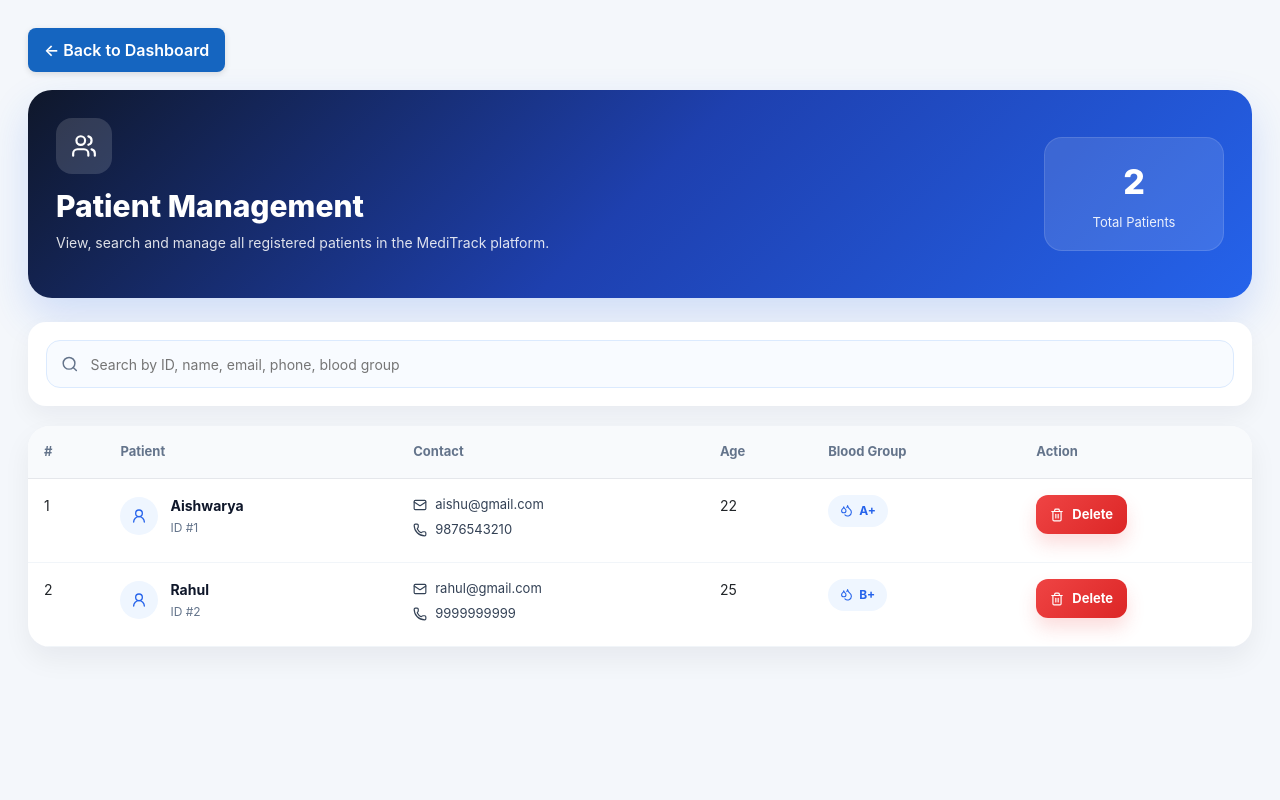
Test case: AdminPatients › search works
Type "rahul" into the field with placeholder "Search by ID, name, email, phone, blood group". click: point(654, 364)
box: x1=89 y1=353 x2=1219 y2=376
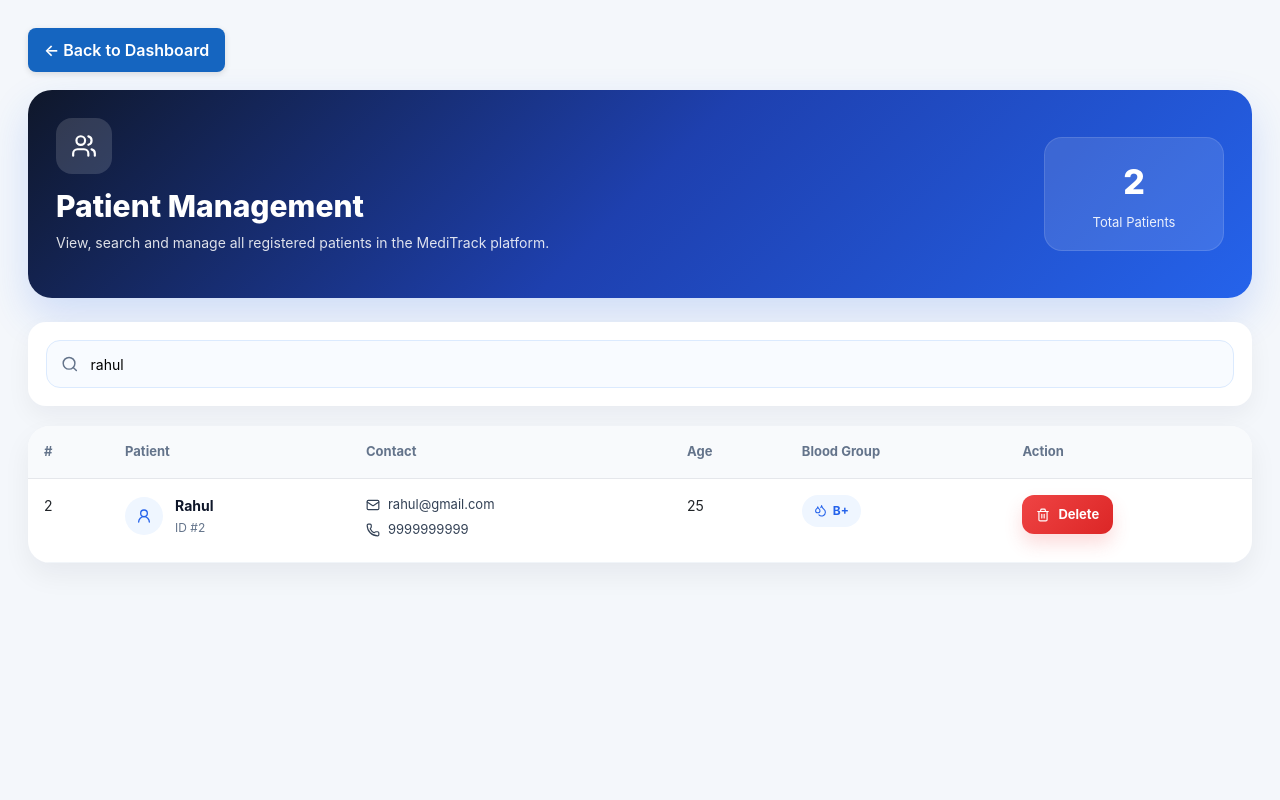
Expected: the text "Rahul" is shown, x1=175 y1=495 x2=214 y2=516
Expected: the text "Aishwarya" is gone
